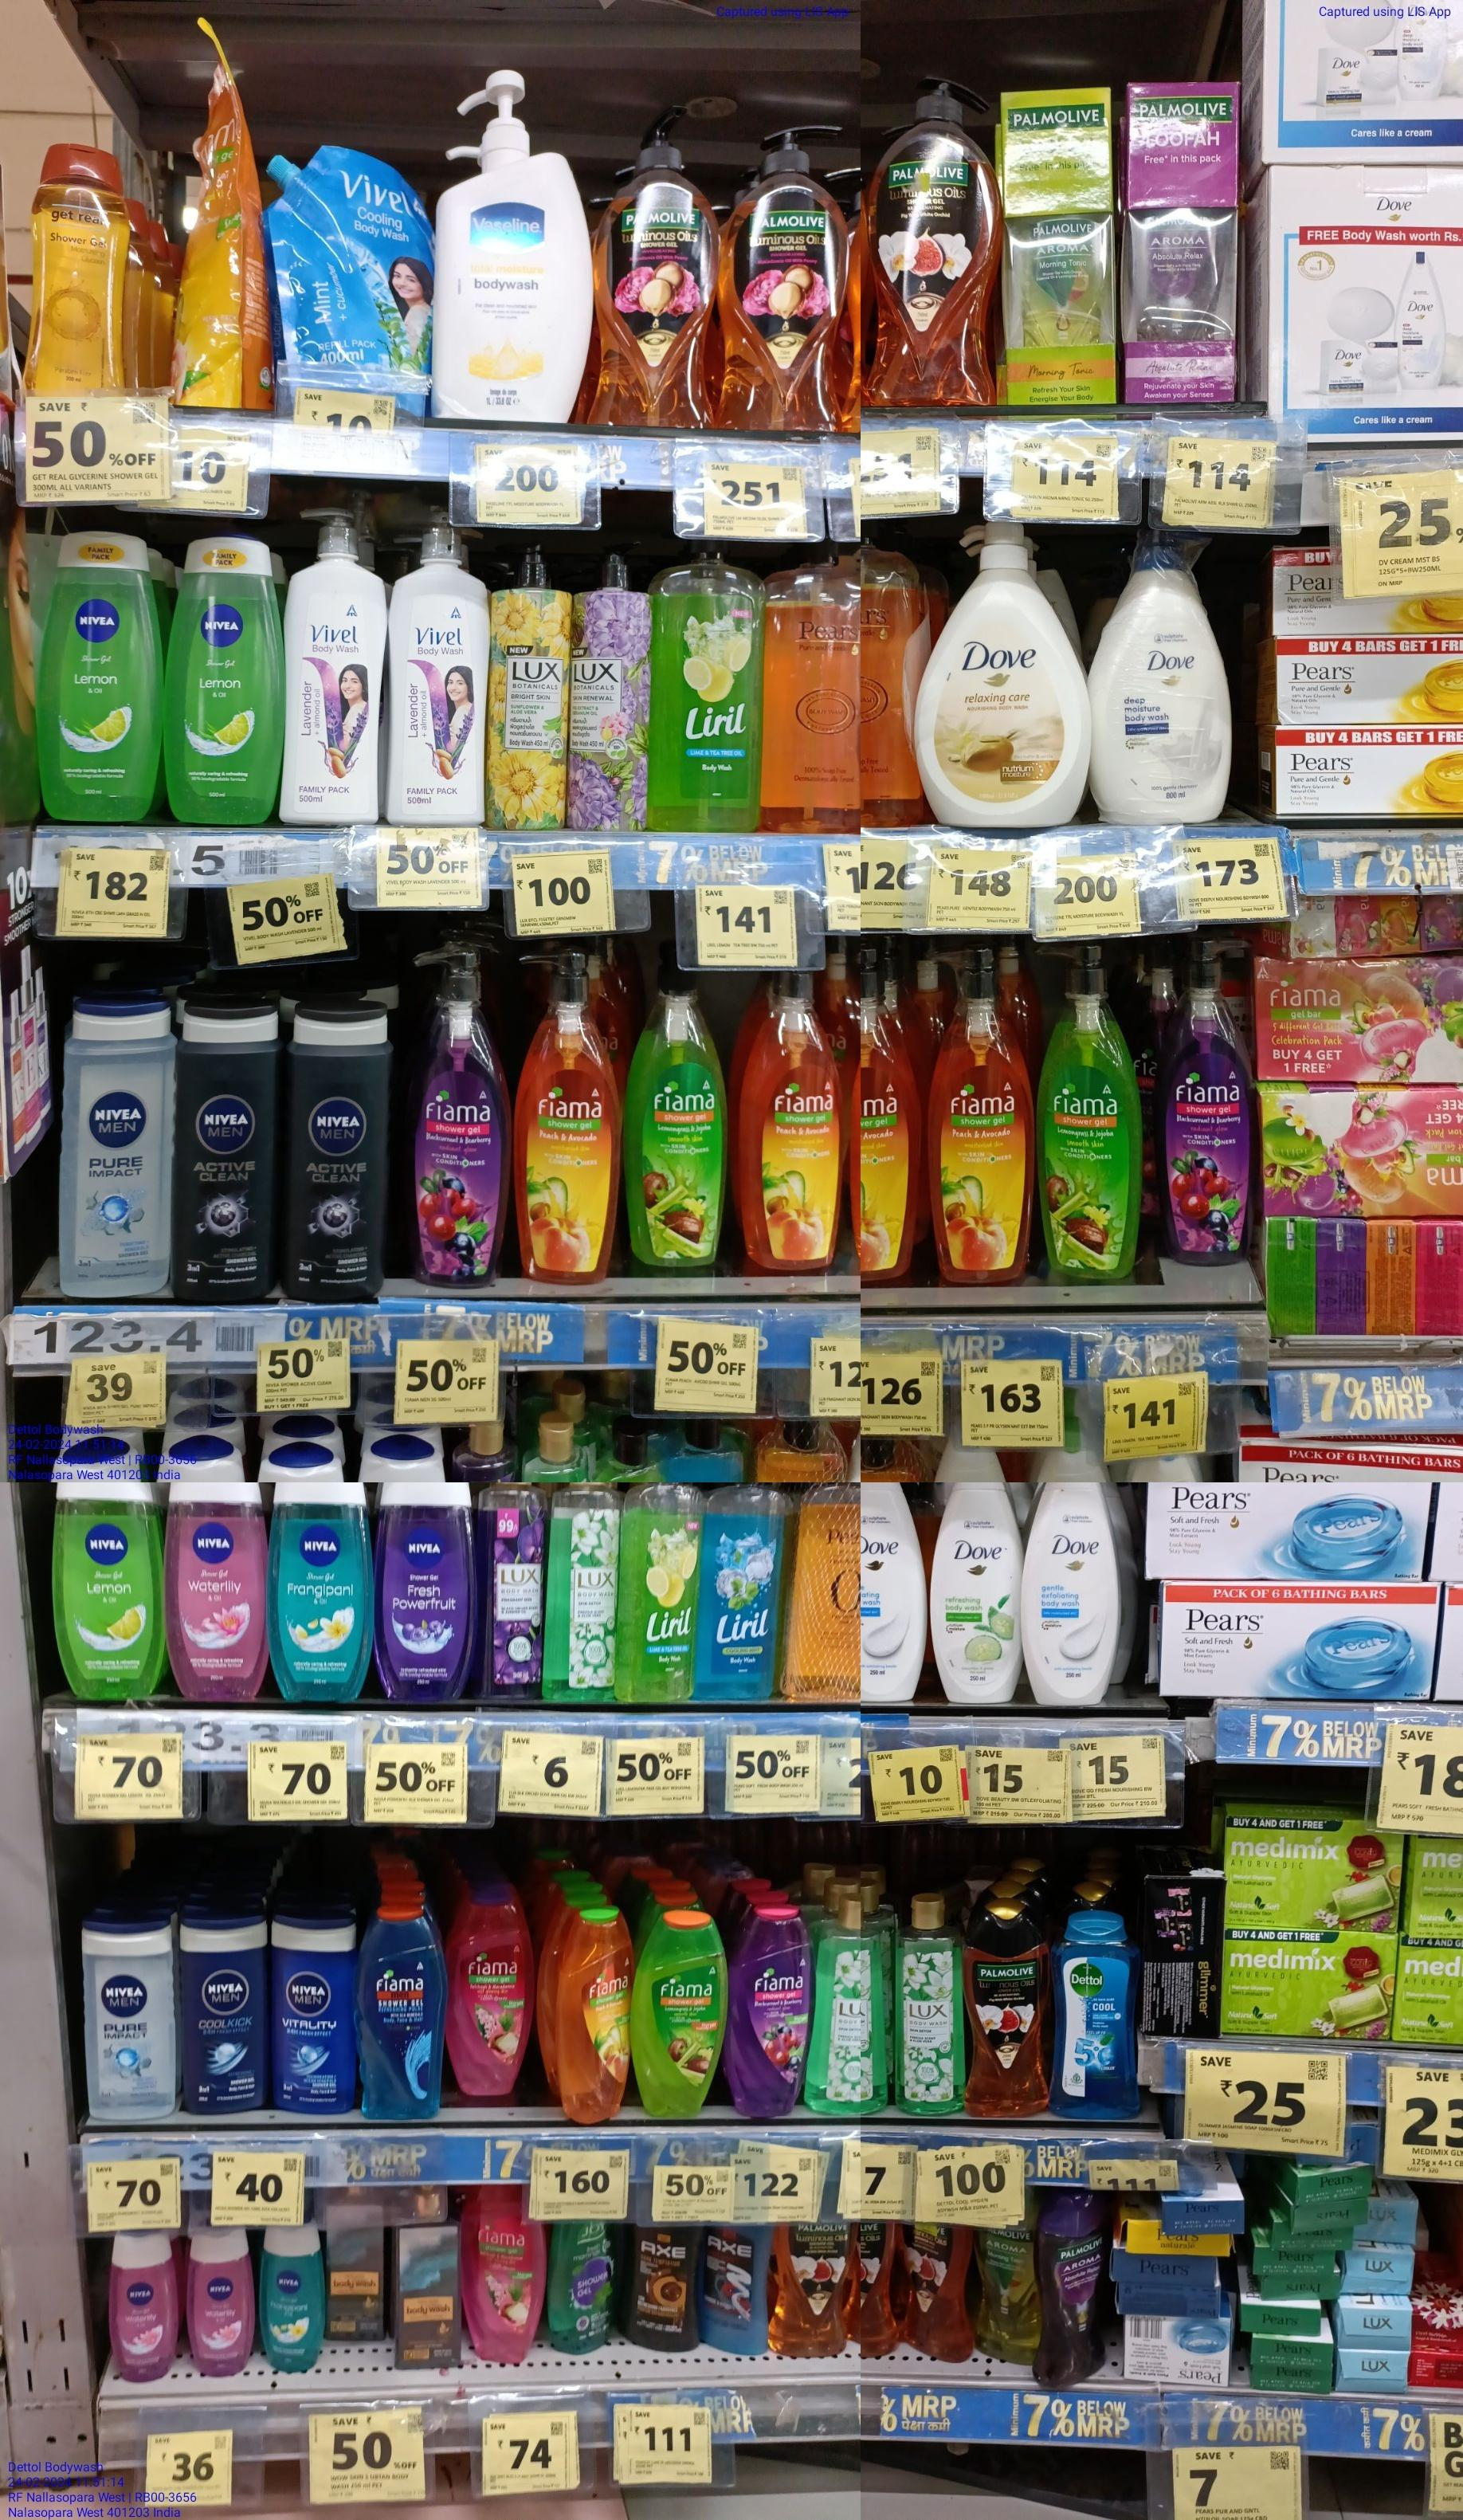Dettol_Bodywash_Cool: (1055, 1907, 1143, 2121)
Dove_Gentle_Exfoliating_Body_Wash_250ML: (1022, 1477, 1116, 1707)
Dove_Refreshing_Body_Wash_250ML: (934, 1477, 1021, 1701)
Fiama_Shower_Gel_Lemongrass_and_Jojoba_250ML: (627, 1907, 726, 2116)
Fiama_Shower_Gel_Patchouli_and_Macadamia_250ML: (451, 1891, 533, 2102), (463, 2184, 545, 2362)
Fiama_Shower_Gel_Peach_and_Avocado_250ML: (549, 1905, 630, 2123)
Lux_Black_Orchid_Scent_and_Juniper_Oil_Body_Wash_245ML: (477, 1461, 543, 1701)
Lux_Body_Wash_Skin_Detox_Freesia_Scent_and_Alove_Vera_245ML: (543, 1465, 618, 1705), (810, 1897, 887, 2118), (893, 1897, 968, 2116)
Nivea_Shower_Gel_Frangipani_and_Oil_250ML: (270, 1473, 376, 1700), (261, 2222, 327, 2372)
Nivea_Shower_Gel_Fresh_Powerfruit_250ML: (378, 1473, 474, 1696)
Nivea_Shower_Gel_Lemon_and_Oil_250ML: (33, 524, 164, 827), (167, 528, 279, 829), (56, 1433, 165, 1701)
Nivea_Shower_Gel_Waterlily_and_Oil_250ML: (165, 1463, 265, 1701), (110, 2227, 179, 2381), (185, 2229, 256, 2375)
Palmolive_Luminous_Oils_With_White_Orchid_Shower_Gel_250ML: (970, 1898, 1050, 2119)
